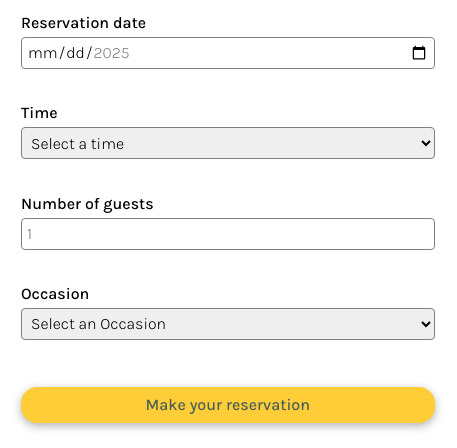
Test: React fields validation with invalid values › Time field: Displays error when time is not selected
This screenshot has width=457, height=448.
Select "Select a time" in the dropdown labelled "Time" at (228, 143), box [21,127,434,159]
Click the button "Make your reservation" at (228, 405), box [21,387,434,423]
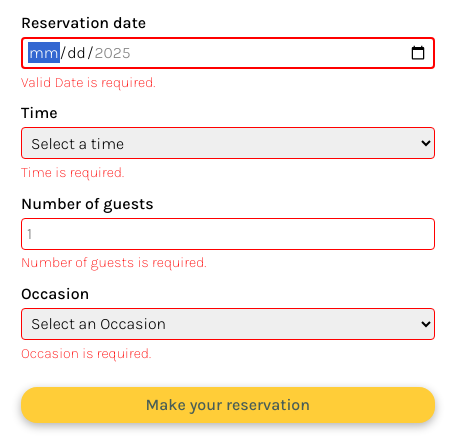
Expected: the text "Time is required." is shown, [21,164,124,181]
